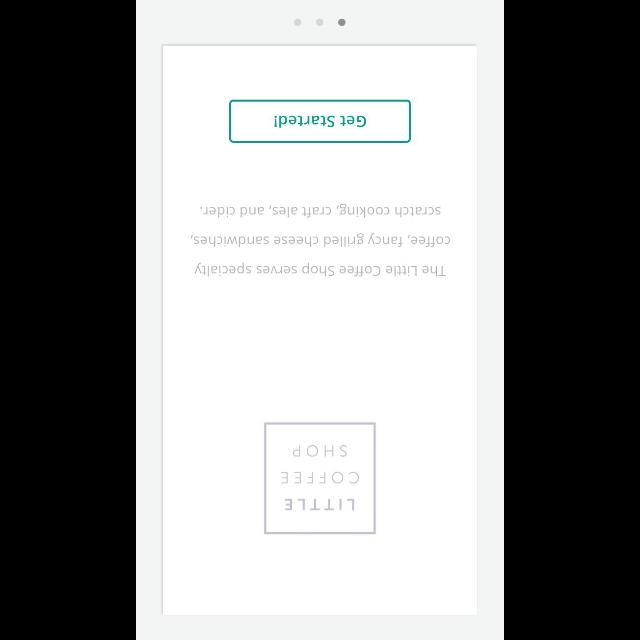image: (264, 422, 376, 534)
pageindicator: (292, 18, 346, 27)
text: (190, 203, 450, 277)
textbutton: (229, 100, 411, 142)
